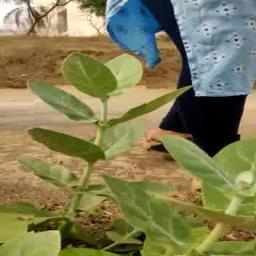Calotropis: (34, 50, 148, 250), (151, 134, 255, 256)
